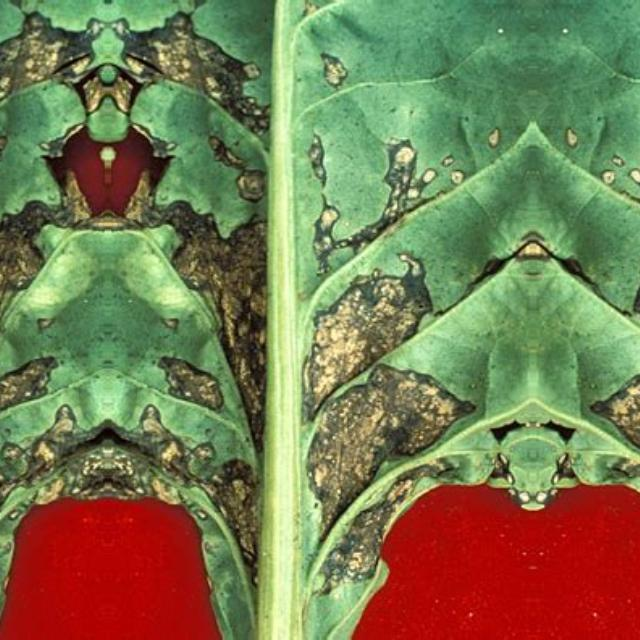Lettuce - Anthracnose: (108, 1, 532, 626), (532, 0, 640, 625), (0, 0, 106, 625)
